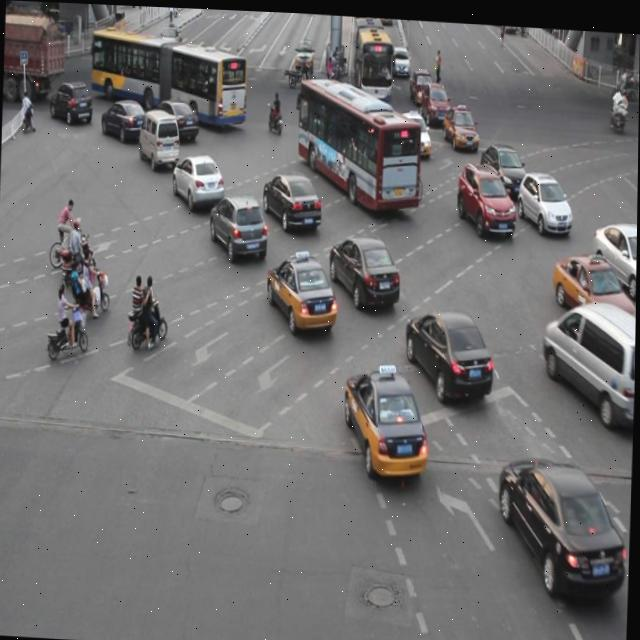car: (496, 450, 627, 597), (341, 361, 430, 472), (403, 300, 494, 399), (549, 245, 637, 328), (265, 246, 337, 329), (328, 229, 402, 307), (454, 155, 515, 234), (208, 188, 269, 260), (589, 212, 638, 291), (262, 168, 323, 231), (516, 165, 572, 229), (171, 149, 224, 209), (476, 136, 527, 196), (151, 95, 200, 141), (49, 77, 95, 125), (100, 96, 146, 139), (441, 100, 479, 149), (399, 107, 431, 157)
truck: (539, 293, 637, 423), (138, 106, 180, 163)
van: (296, 77, 421, 208), (90, 27, 247, 120)
